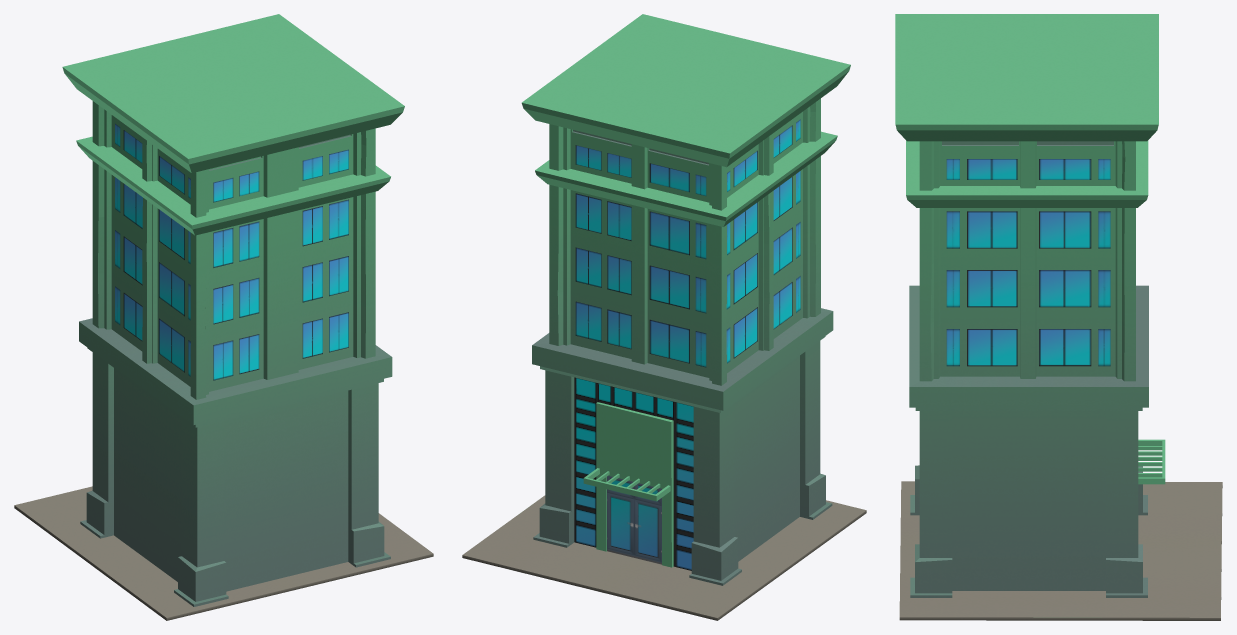
File: BLD1210002.fbx
3 renders of one model, left to right at view 1: azimuth 30°, elevation 25°; view 2: azimuth 150°, elevation 25°; view 3: azimuth 270°, elevation 25°, orthographic. The views are drawn at different scales.
Parts seen in each view (by area): view 1: smBLD1210002; view 2: smBLD1210002; view 3: smBLD1210002.
Boxes of the visible parts, x1,y1,x2,y2 form: smBLD1210002: (14, 14, 433, 620); smBLD1210002: (462, 14, 866, 620); smBLD1210002: (895, 14, 1222, 620).
Size of the model in its own units: 1154 by 1893 by 1169.
1 material, 1 textured.
